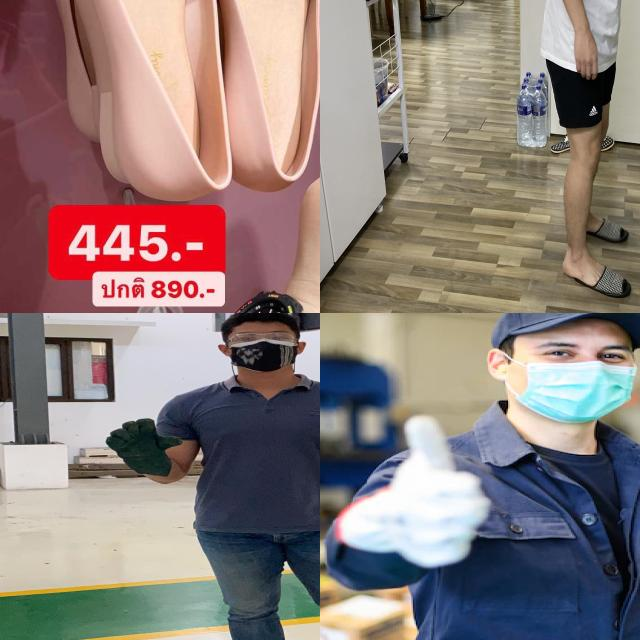No_Ear-Protection: (481, 350, 516, 380)
No_Glasses: (531, 341, 636, 372)
Sandals: (58, 0, 320, 225), (563, 245, 632, 299), (584, 217, 630, 244)
face_mask: (506, 354, 637, 423), (223, 331, 301, 367)
glasses: (221, 329, 303, 348)
hand_glove: (335, 414, 489, 568), (100, 414, 183, 476)
head_nohelmet: (491, 313, 640, 348), (223, 313, 294, 330)
person: (98, 313, 320, 640)
